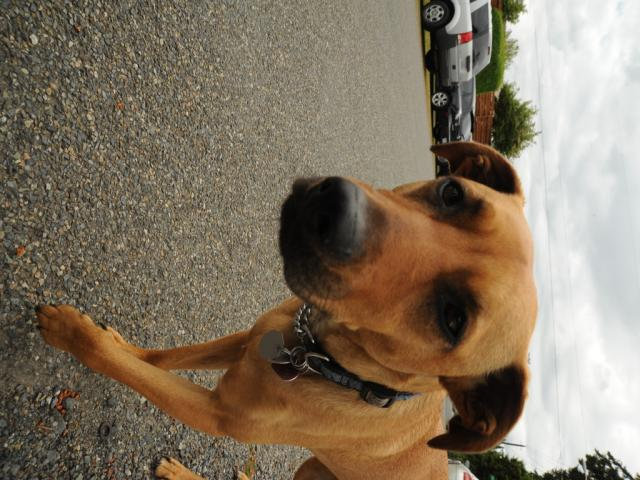Dog: (34, 136, 538, 480)
